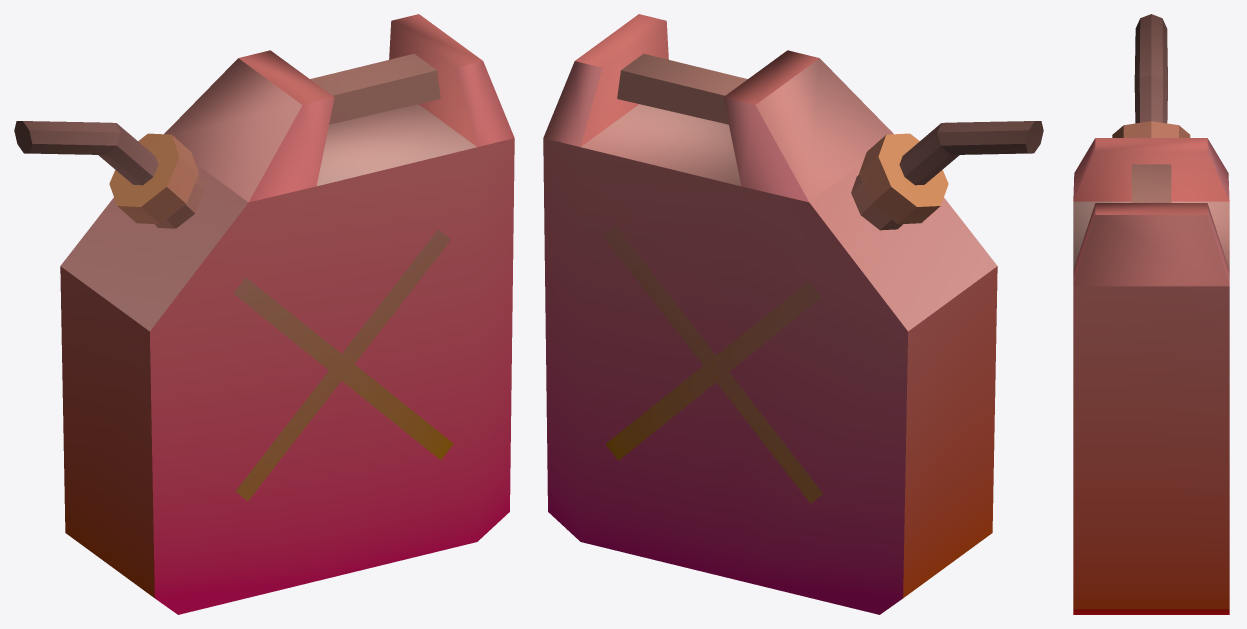
The model's file is colect_gas_can.glb.
3 views of the same model, side by side, from view 1: azimuth 30°, elevation 25°; view 2: azimuth 150°, elevation 25°; view 3: azimuth 270°, elevation 25° (orthographic). The views are drawn at different scales.
Visible parts, largest first — view 1: colect_gas_can; view 2: colect_gas_can; view 3: colect_gas_can.
Boxes of the visible parts, bbox=[...] form: colect_gas_can: bbox=[14, 14, 514, 614]; colect_gas_can: bbox=[543, 14, 1043, 614]; colect_gas_can: bbox=[1073, 14, 1229, 614].
Bounding box in the file's own units: 0.3815 × 0.3981 × 0.136.
